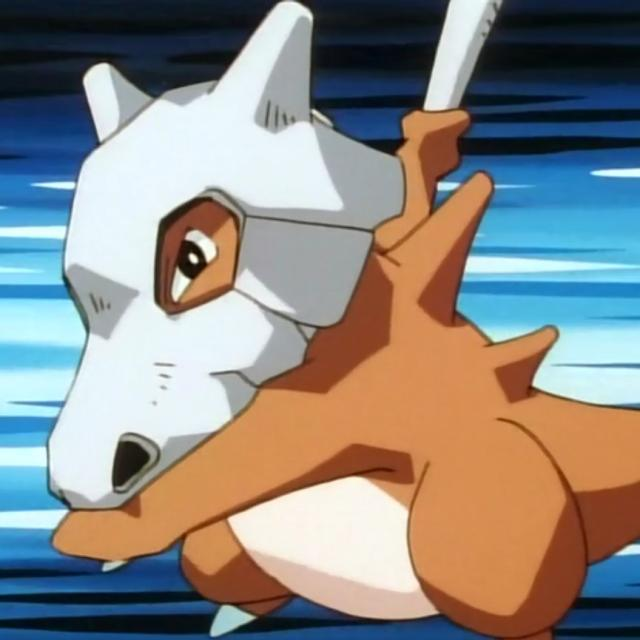Cubone: (62, 4, 588, 626)
